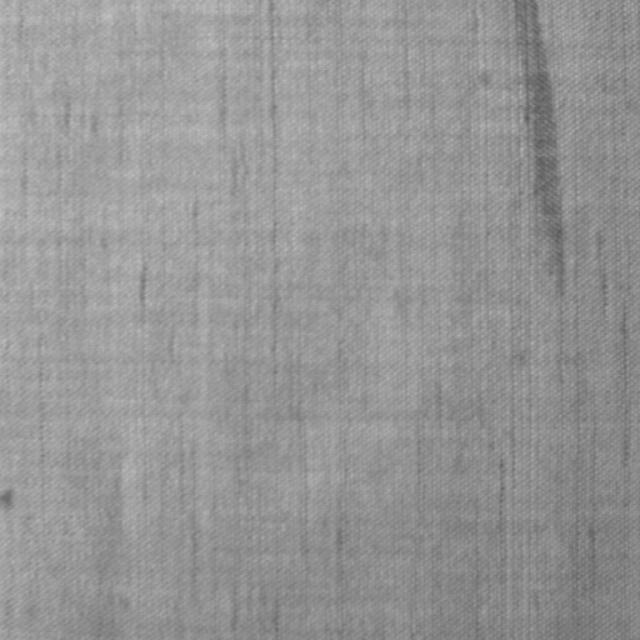oil spot: (509, 0, 567, 296)
